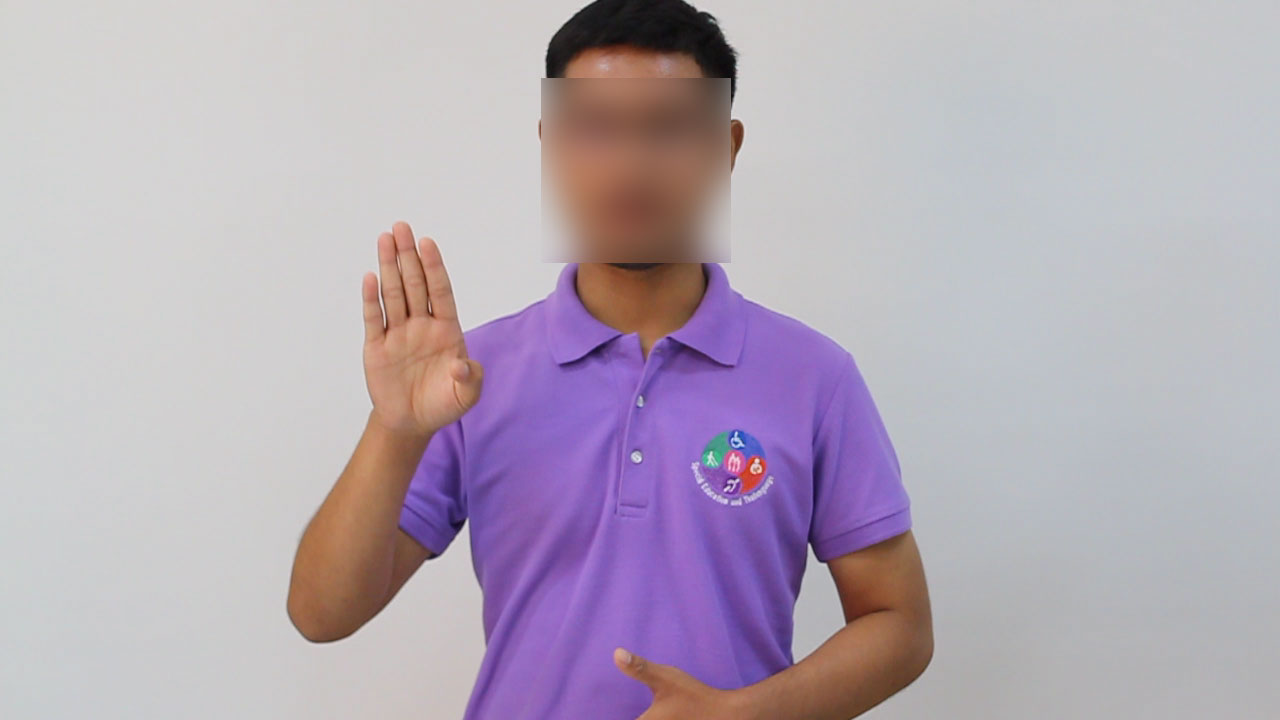bor: (340, 206, 495, 459)
